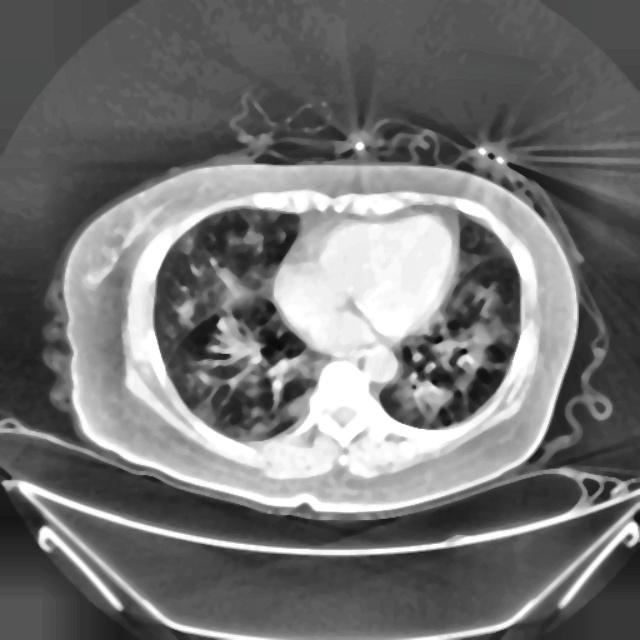covid: (44, 146, 581, 521)
